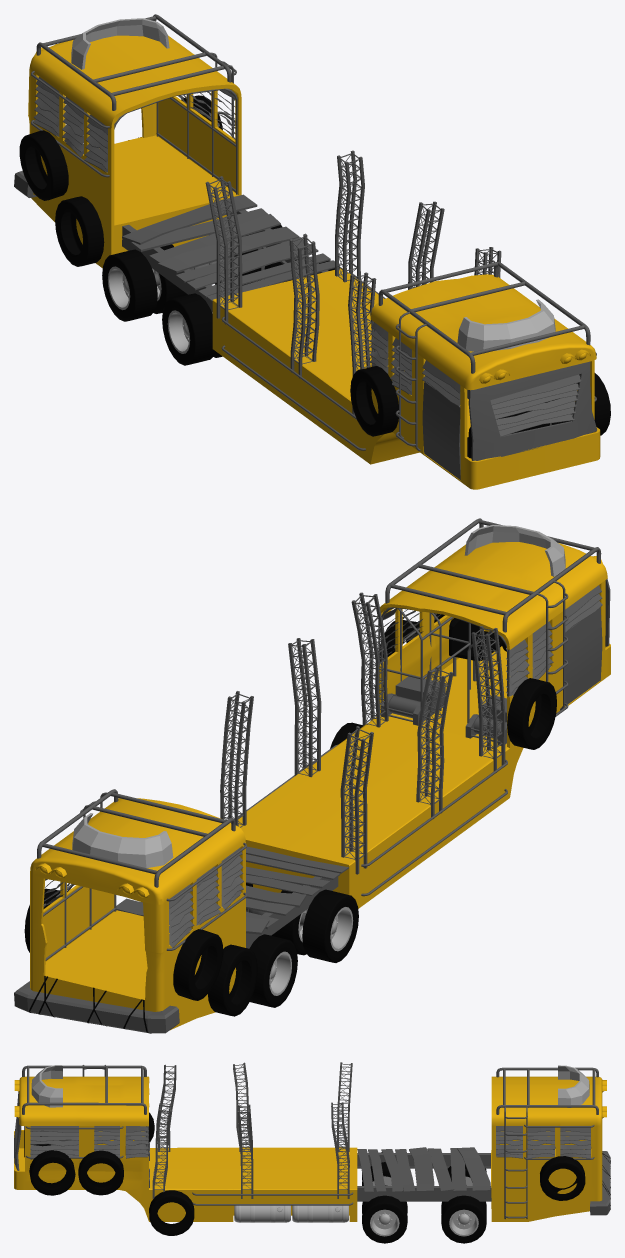
The model's file is Bus Trailer Final.fbx.
The picture shows the model from 3 angles, top to bottom: view 1: azimuth 30°, elevation 25°; view 2: azimuth 150°, elevation 25°; view 3: azimuth 270°, elevation 25°; orthographic projection. The views are drawn at different scales.
Parts seen in each view (by area): view 1: BusTrailerBaseMesh, Passenger_Side_Back_Wheel, Passenger_Side_Front_Wheel; view 2: BusTrailerBaseMesh, Passenger_Side_Front_Wheel, Passenger_Side_Back_Wheel; view 3: BusTrailerBaseMesh, Drivers_Side_Front_Wheel, Drivers_Side_Back_Wheel.
Part boxes in pixels (box(x1,y1,x2,y2)): BusTrailerBaseMesh: box(14, 14, 610, 489); Passenger_Side_Back_Wheel: box(102, 244, 187, 321); Passenger_Side_Front_Wheel: box(162, 293, 222, 365); BusTrailerBaseMesh: box(14, 518, 610, 1033); Passenger_Side_Front_Wheel: box(271, 885, 358, 962); Passenger_Side_Back_Wheel: box(249, 934, 297, 1007); BusTrailerBaseMesh: box(14, 1062, 610, 1235); Drivers_Side_Front_Wheel: box(362, 1185, 407, 1243); Drivers_Side_Back_Wheel: box(441, 1185, 486, 1243).
Bounding box in the file's own units: 9.5 × 11.31 × 43.29.
